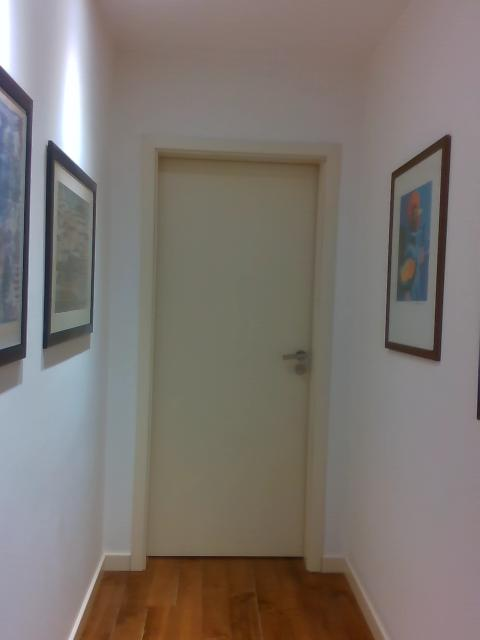closed_door: (144, 150, 320, 558)
